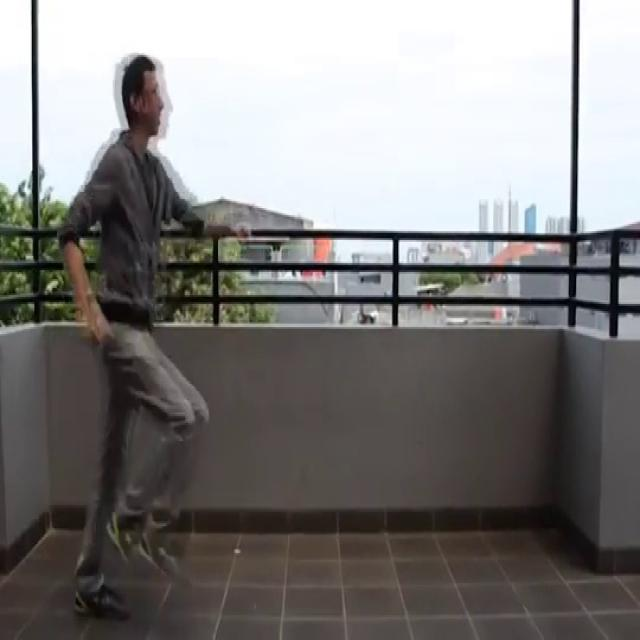normal: (56, 45, 224, 615)
